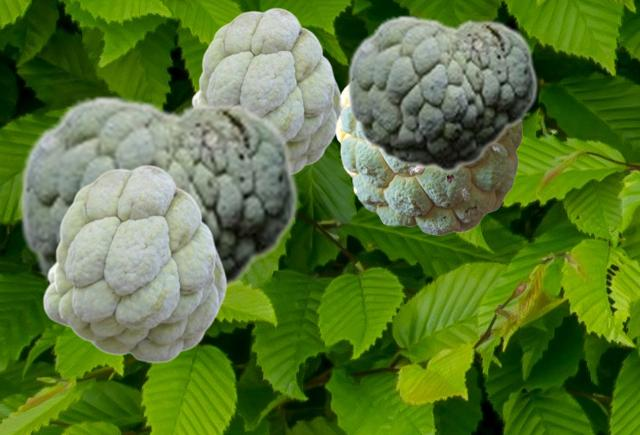atis: (18, 94, 298, 306), (42, 164, 226, 362), (346, 14, 537, 172), (335, 86, 521, 234), (191, 7, 340, 173)
